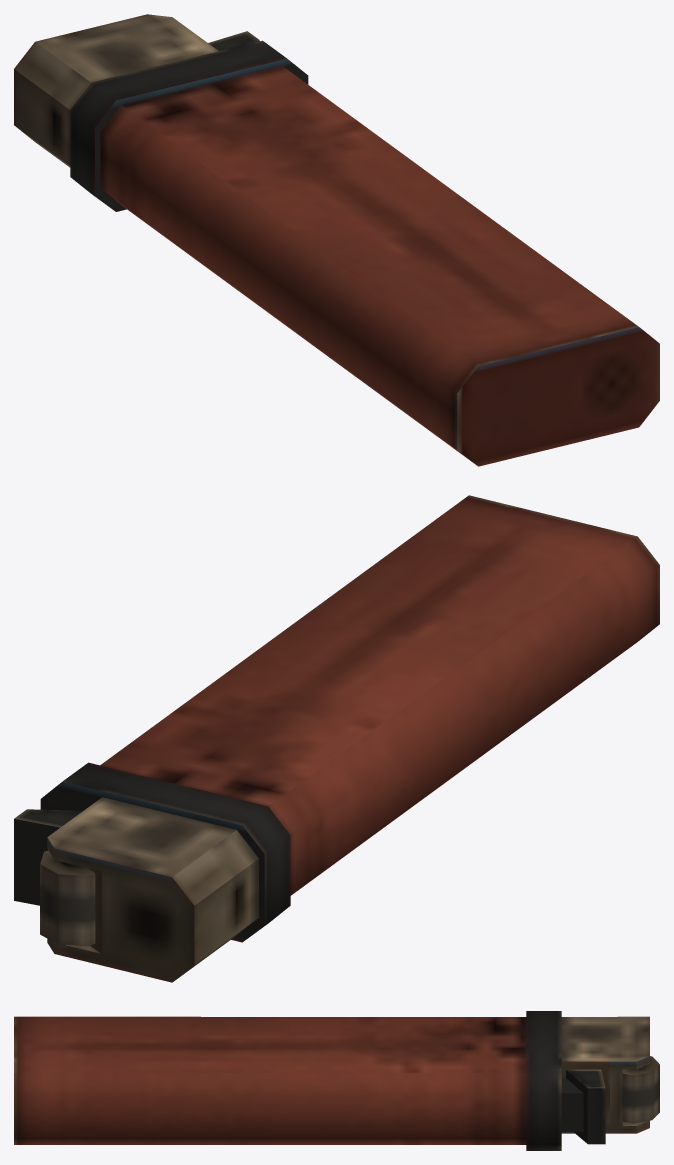
Rendered from lighter_mp_1.obj.
3 renders of one model, top to bottom at view 1: azimuth 30°, elevation 25°; view 2: azimuth 150°, elevation 25°; view 3: azimuth 270°, elevation 25°, orthographic. The views are drawn at different scales.
Visible parts, largest first — view 1: lighter_mp_1; view 2: lighter_mp_1; view 3: lighter_mp_1.
Boxes of the visible parts, <box> form: lighter_mp_1: <box>14,14,659,466</box>; lighter_mp_1: <box>14,495,659,982</box>; lighter_mp_1: <box>14,1011,659,1150</box>.
Bounding box in the file's own units: 0.04 × 0.02 × 0.1463.
